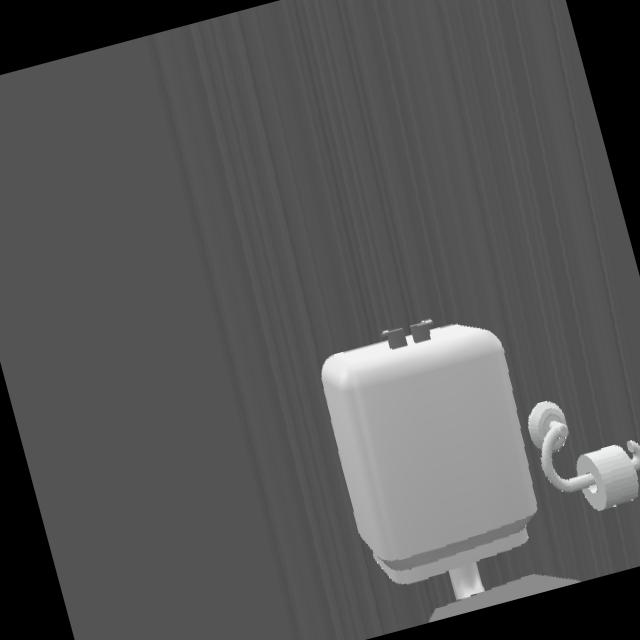toilet: (322, 320, 574, 619)
